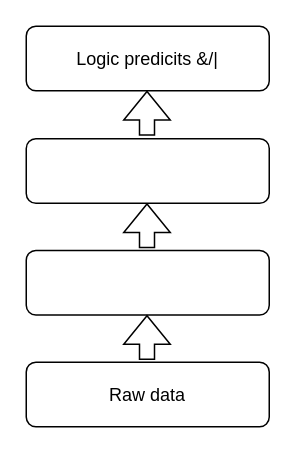
The diagram is 296 pixels wide and 453 high, and some of its shapes have lost their labels. The centre of each missing label's shape, as x and y in pixels:
"Event with Allen relationship" belongs at point 147,170.
"Interval/ Instantaneous Event" belongs at point 147,282.
